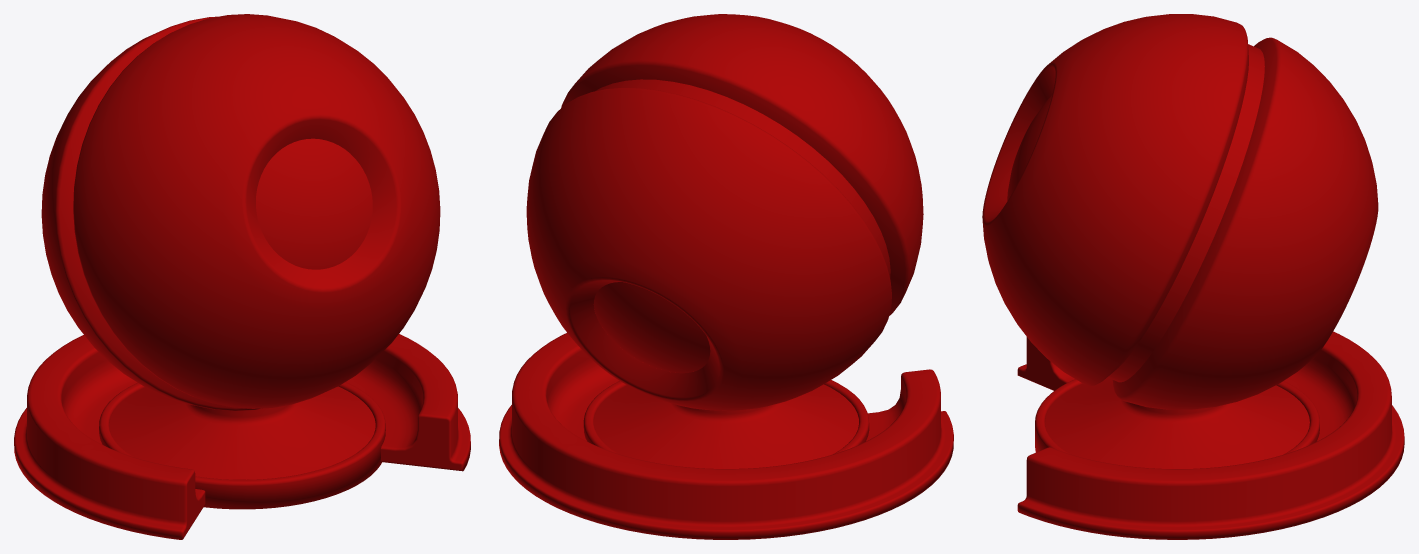
The model's file is material_car_paint.glb.
3 renders of one model, left to right at view 1: azimuth 30°, elevation 25°; view 2: azimuth 150°, elevation 25°; view 3: azimuth 270°, elevation 25°, orthographic.
Visible parts, largest first — view 1: car_paint_red; view 2: car_paint_red; view 3: car_paint_red.
Part boxes in pixels (<box>): car_paint_red: <box>14,14,470,539</box>; car_paint_red: <box>499,14,953,539</box>; car_paint_red: <box>982,14,1404,539</box>.
Bounding box in the file's own units: 1.34 × 1.35 × 1.25.
